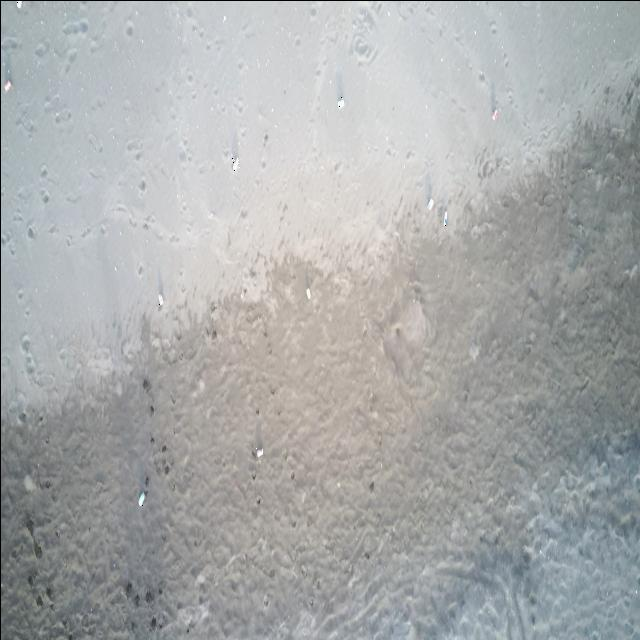Garbage: (253, 447, 263, 457), (232, 155, 238, 171), (138, 491, 144, 506), (158, 292, 163, 307), (337, 96, 343, 108), (427, 198, 433, 209), (444, 209, 447, 226), (306, 287, 310, 299)
